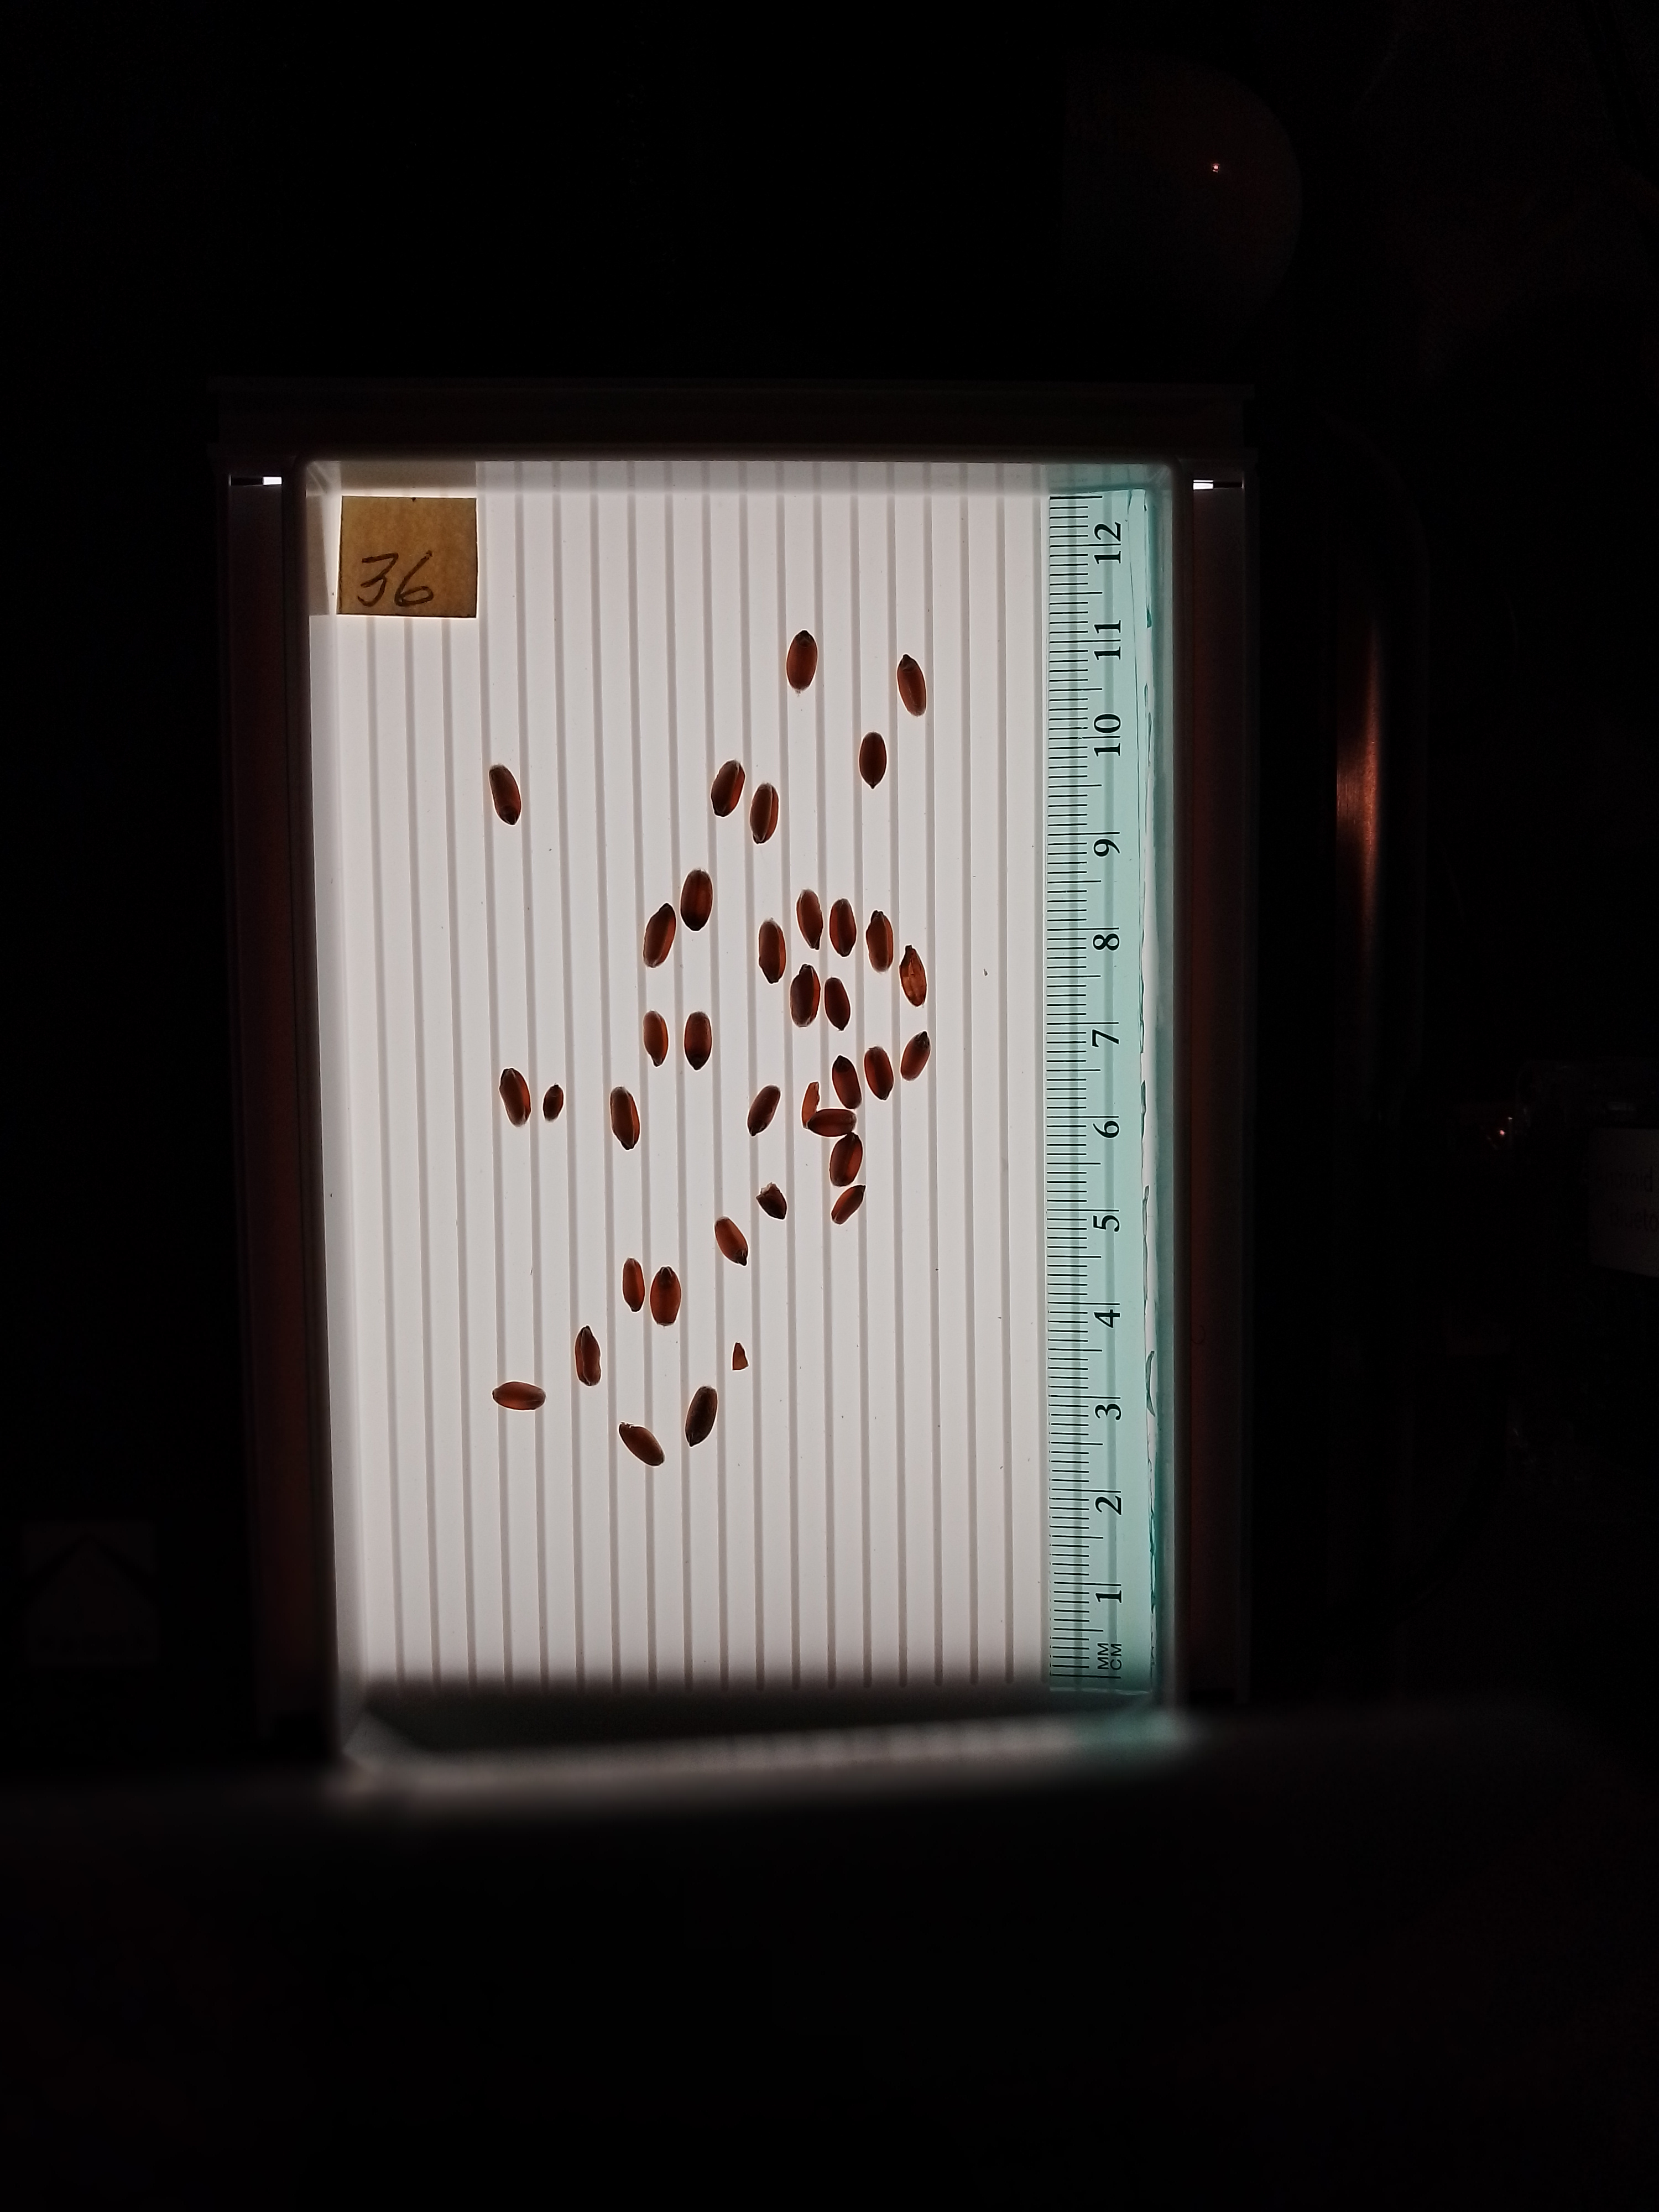seed mask: (680, 867, 714, 930), (488, 766, 523, 826), (619, 1423, 666, 1467), (756, 920, 788, 984), (711, 759, 746, 817), (685, 1388, 718, 1447), (650, 1266, 683, 1325), (749, 784, 781, 845), (645, 906, 676, 967), (610, 1087, 640, 1151), (786, 629, 816, 693), (498, 1068, 530, 1127), (791, 965, 821, 1028), (866, 911, 894, 975), (830, 1132, 863, 1186), (857, 732, 887, 791), (896, 655, 925, 714), (748, 1085, 781, 1137), (899, 944, 927, 1005), (683, 1010, 711, 1071), (491, 1381, 547, 1411), (796, 890, 824, 949), (828, 900, 857, 956), (716, 1217, 749, 1266), (575, 1327, 603, 1385), (831, 1055, 861, 1109), (864, 1047, 894, 1101), (899, 1031, 931, 1080), (643, 1010, 669, 1068), (807, 1108, 857, 1137), (620, 1258, 647, 1312), (824, 977, 850, 1029), (831, 1186, 866, 1224), (756, 1183, 788, 1221), (802, 1082, 821, 1129), (544, 1083, 565, 1122), (732, 1345, 751, 1371)
